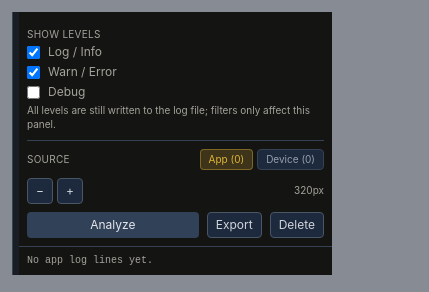
it: LogPanel filtering / resize / virtualization › widens and narrows the sidebar panel width
This screenshot has width=429, height=292.
Expected: the text "320px" is shown, top-left (294, 184), bottom-right (324, 196)
Click the button named "Widen log panel" at point(70, 190), box top-left (57, 178), bottom-right (83, 204)
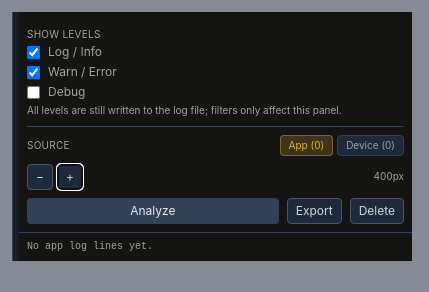
Now the text "400px" is shown, box top-left (374, 170), bottom-right (404, 182)
Click the button named "Narrow log panel" at point(40, 177), box top-left (27, 164), bottom-right (53, 190)
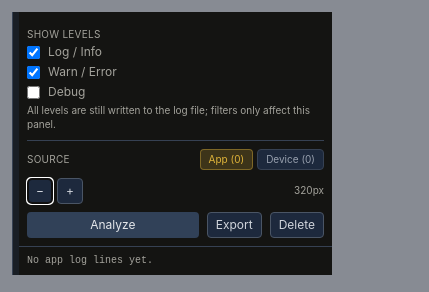
Now the text "320px" is shown, box top-left (294, 184), bottom-right (324, 196)
